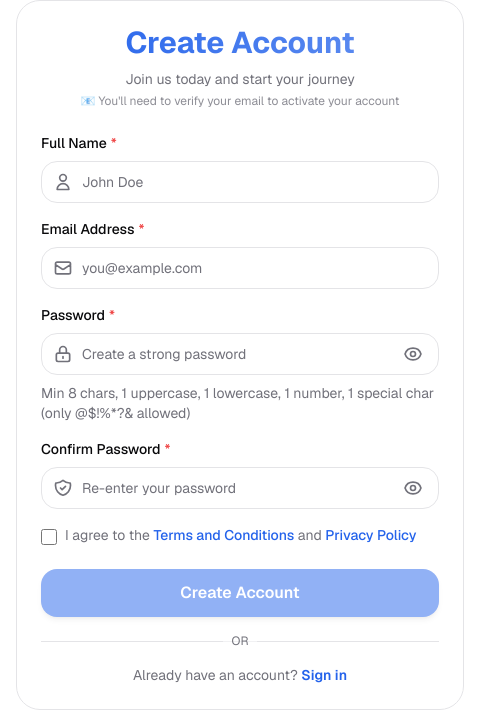
RegisterForm › Form Validation › should validate email format
This screenshot has width=481, height=720.
Step 1. Type "invalid-email" into the field labelled "Email Address*" → coordinates (240, 268), box [41, 247, 439, 289]
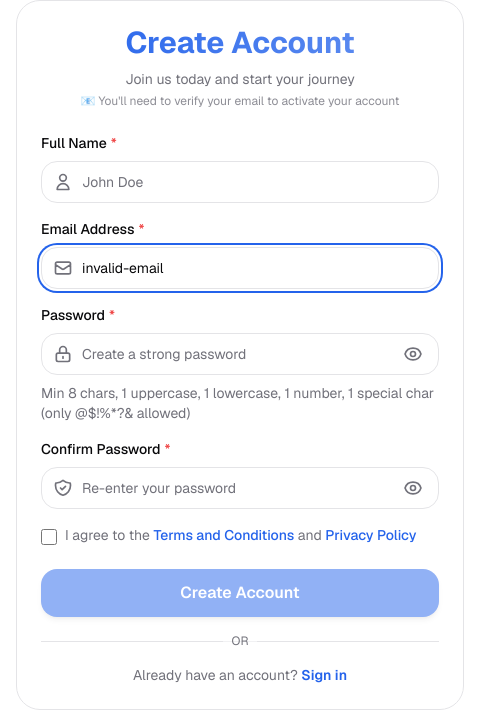
Step 2. Click the button "Create Account" → coordinates (240, 593), box [41, 569, 439, 617]
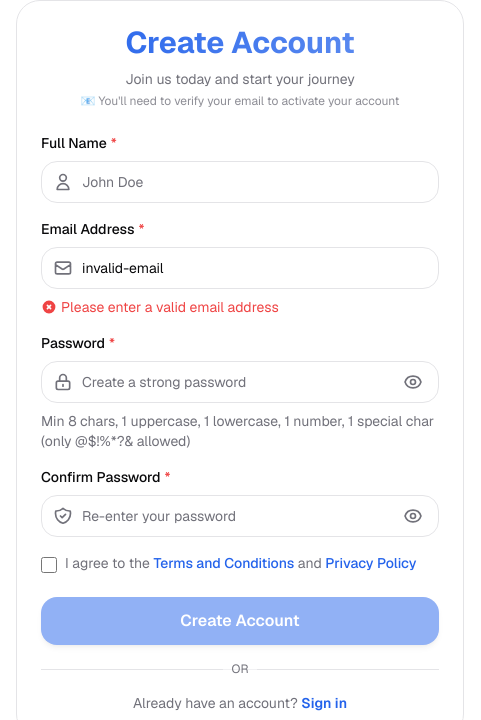
Result: the text "Please enter a valid email address" is shown at [41, 298, 279, 316]
